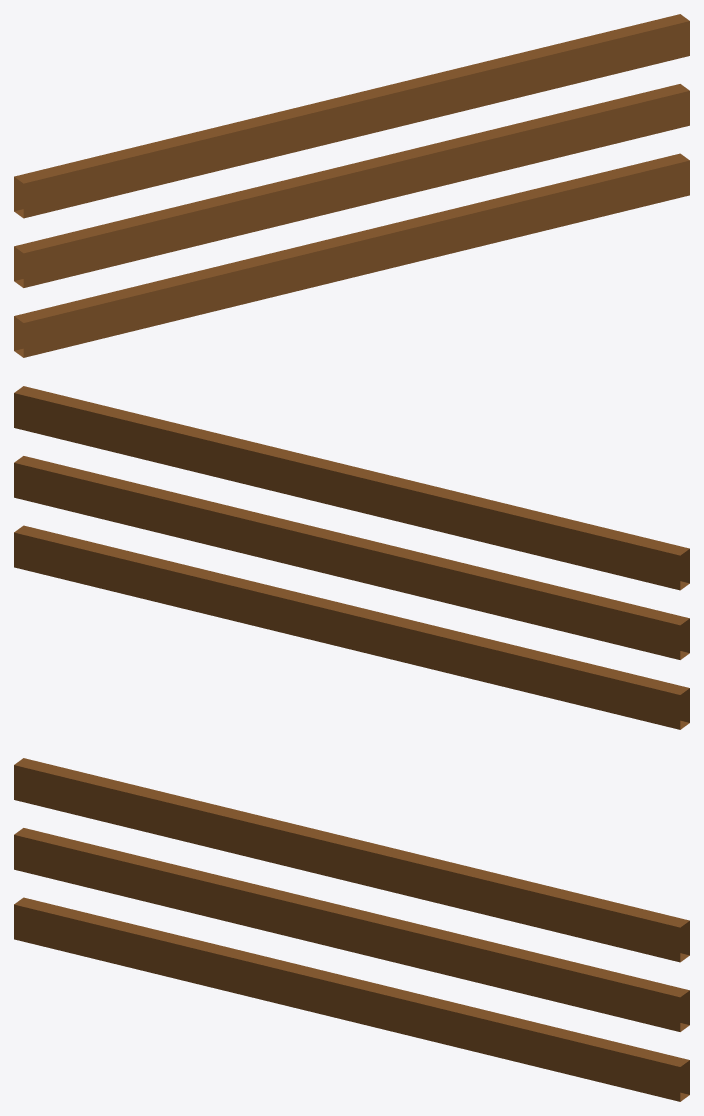
Rendered from fenceslats.FBX.
The picture shows the model from 3 angles, top to bottom: view 1: azimuth 30°, elevation 25°; view 2: azimuth 150°, elevation 25°; view 3: azimuth 330°, elevation 25°; orthographic projection.
Visible parts, largest first — view 1: FenceWall; view 2: FenceWall; view 3: FenceWall.
Boxes of the visible parts, <box> form: FenceWall: <box>14,14,689,357</box>; FenceWall: <box>14,386,689,729</box>; FenceWall: <box>14,758,689,1101</box>.
Size of the model in its own units: 2 by 0.5 by 0.05.
